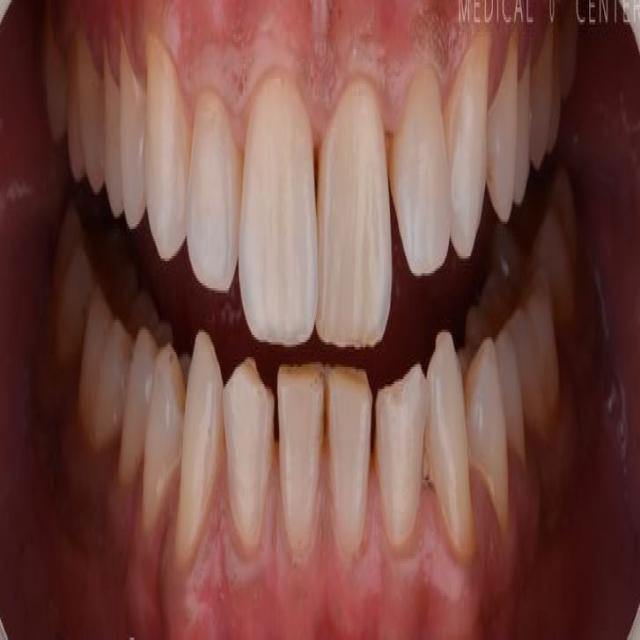1st Molar: (505, 271, 562, 427), (79, 293, 134, 452), (67, 39, 102, 201), (535, 15, 563, 165)
1st Premolar: (464, 340, 510, 529), (143, 347, 186, 522), (489, 32, 519, 224), (118, 34, 146, 229)
2nd Molar: (50, 202, 95, 362), (537, 167, 579, 320), (43, 16, 67, 145), (559, 0, 579, 98)
2nd Premolar: (117, 330, 157, 487), (497, 335, 526, 465), (102, 49, 122, 214), (515, 58, 533, 206)
Canine: (427, 332, 475, 571), (176, 332, 222, 566), (447, 32, 494, 261), (146, 37, 188, 262)
Central Incisor: (239, 76, 318, 345), (315, 81, 391, 350), (277, 364, 326, 566), (326, 365, 372, 564)
Lateral Incisor: (386, 66, 449, 276), (187, 87, 242, 290), (223, 362, 275, 559), (376, 369, 427, 551)
